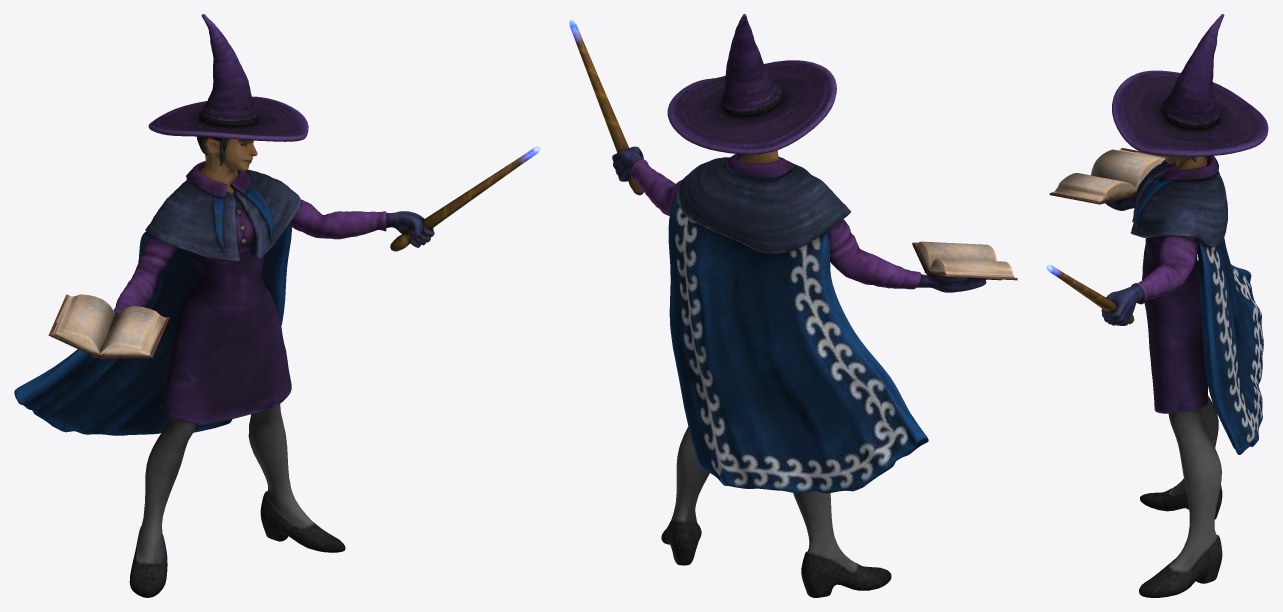
Rendered from MZ4250 - Human Female Illusion Wizard_1.glb.
3 views of the same model, side by side, from view 1: azimuth 30°, elevation 25°; view 2: azimuth 150°, elevation 25°; view 3: azimuth 270°, elevation 25° (orthographic). The views are drawn at different scales.
Parts seen in each view (by area): view 1: Body.002; view 2: Body.002; view 3: Body.002.
Boxes of the visible parts, x1,y1,x2,y2 form: Body.002: (14, 14, 540, 597); Body.002: (569, 14, 1017, 597); Body.002: (1046, 14, 1268, 597).
Size of the model in its own units: 0.9377 by 1.05 by 0.3956.
Materials: 1 (1 with a texture image).
